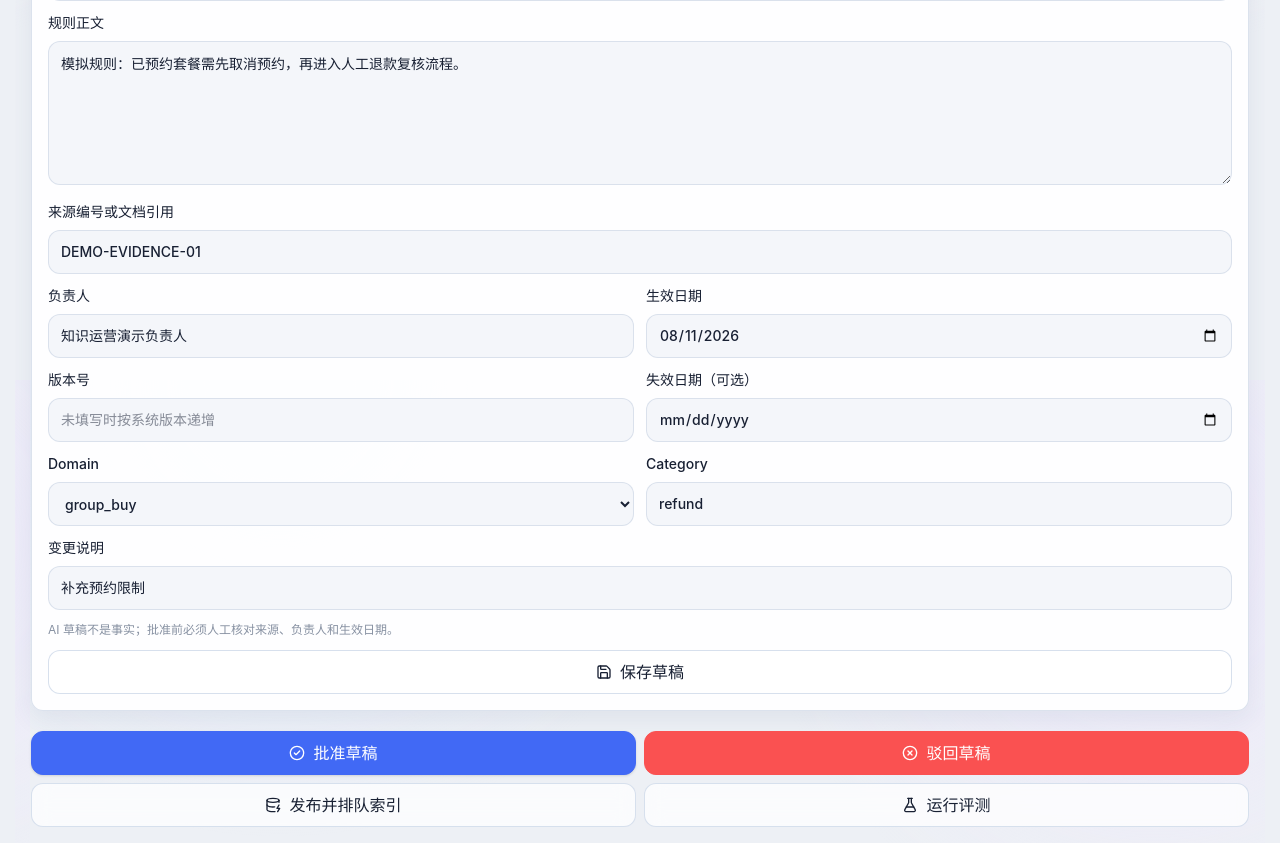
Test: account and knowledge admin demo flows › lets a live admin process a queued index job without exposing credentials
(page scrolled)
What coordinates should you click on to do the following:
click the button "发布并排队索引"
I would click on:
 (334, 805)
Its box is [31, 783, 636, 827].
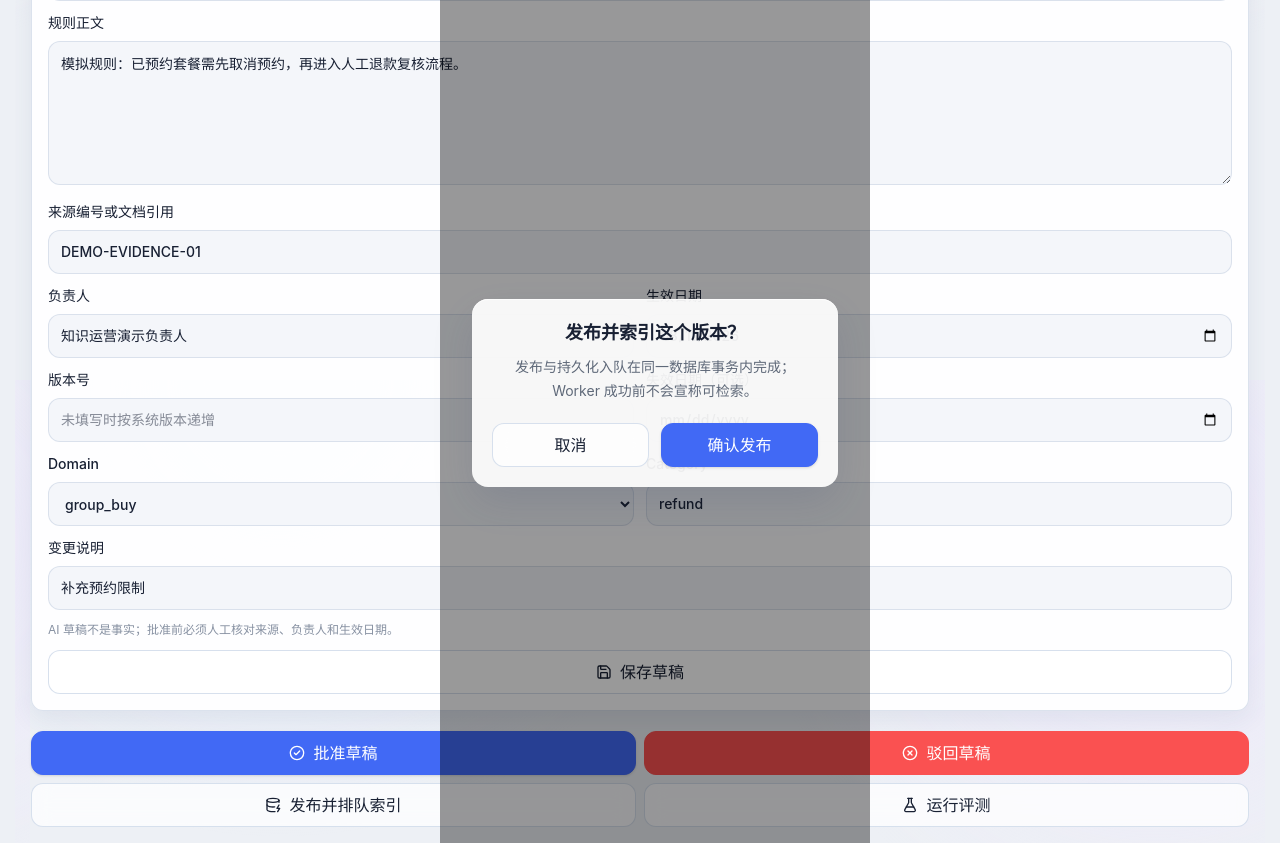
What coordinates should you click on to do the following:
click the button "确认发布"
I would click on:
 (740, 445)
Its box is [661, 423, 818, 467].
(page scrolled)
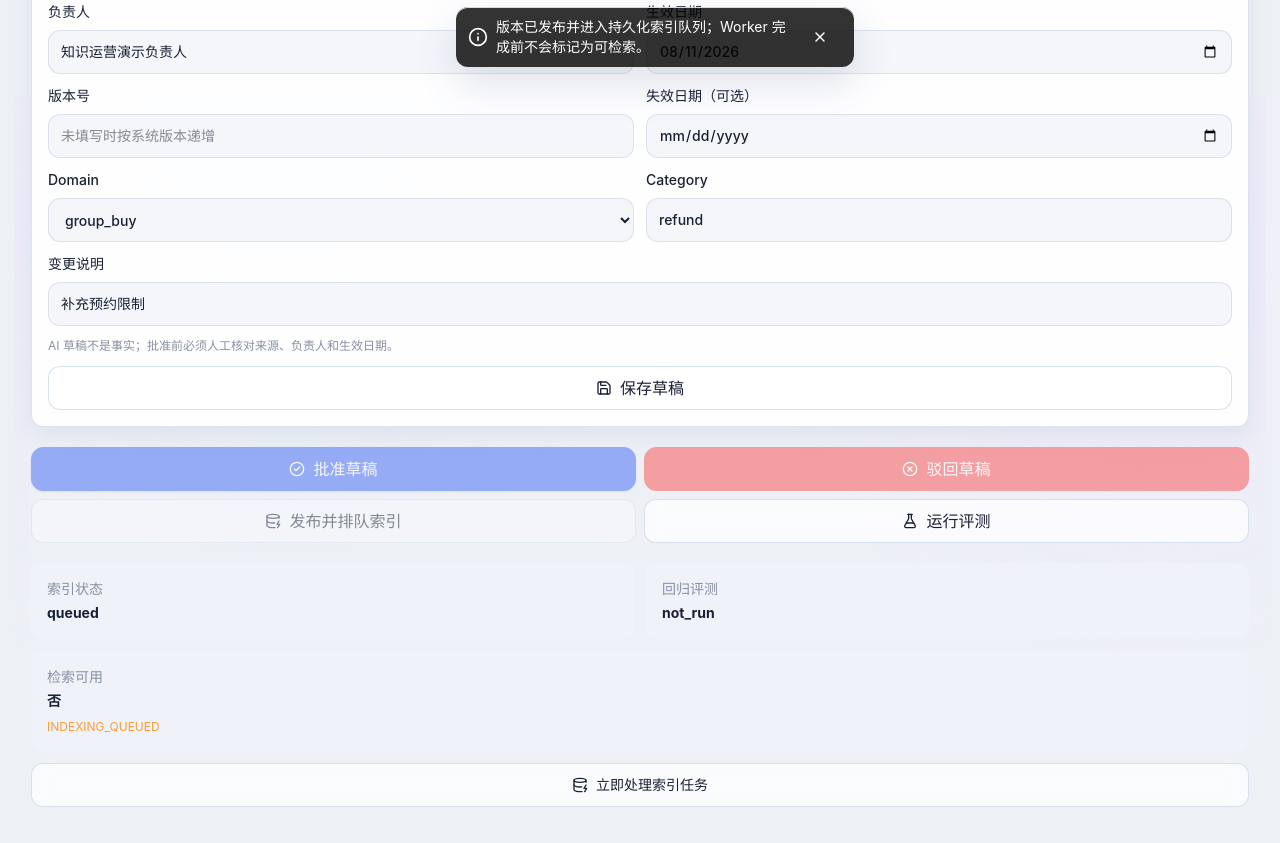
Result: the button "立即处理索引任务" is shown
What coordinates should you click on to do the following:
click the button "立即处理索引任务"
I would click on:
 (640, 785)
Its box is [31, 763, 1249, 807].
(page scrolled)
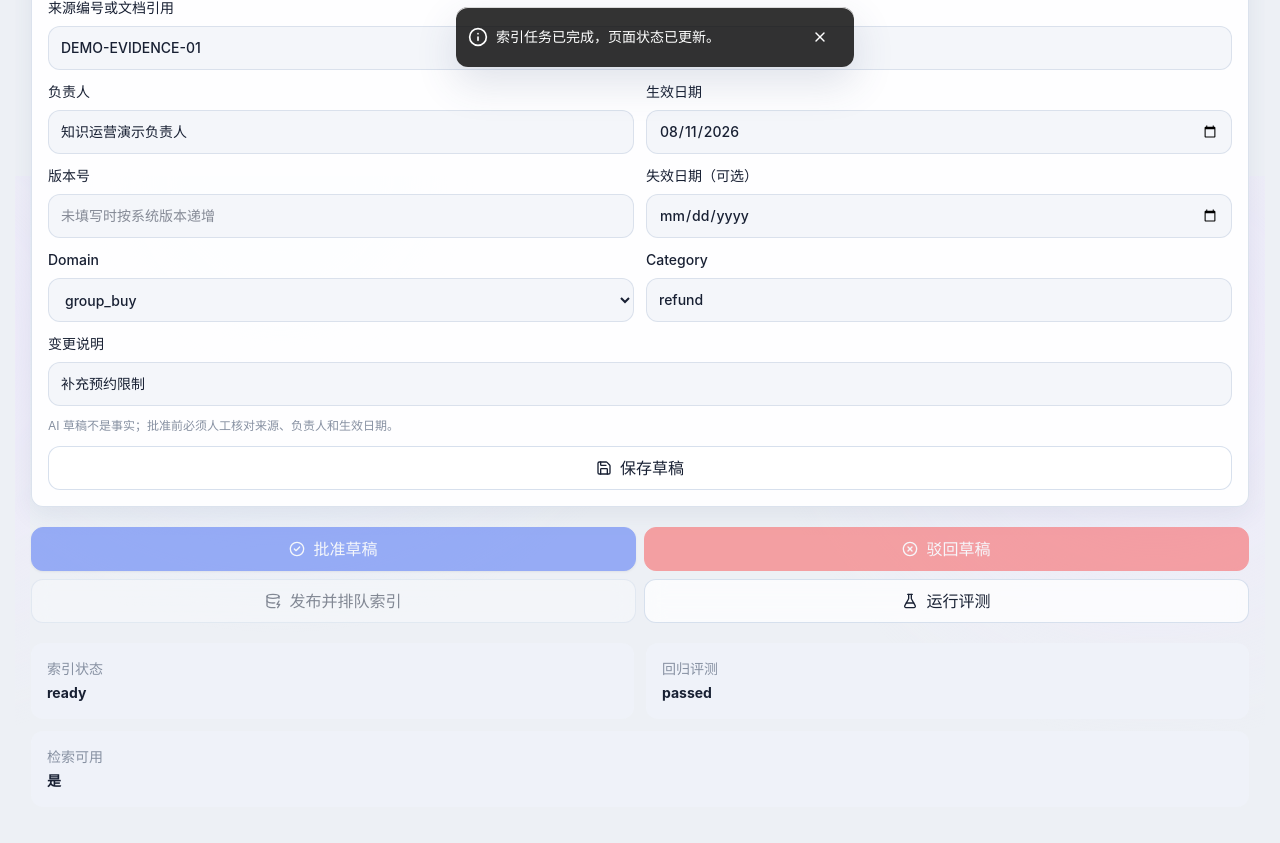
Result: the text "ready" is shown at [47, 684, 86, 701]
Result: the text "passed" is shown at [662, 684, 712, 701]
